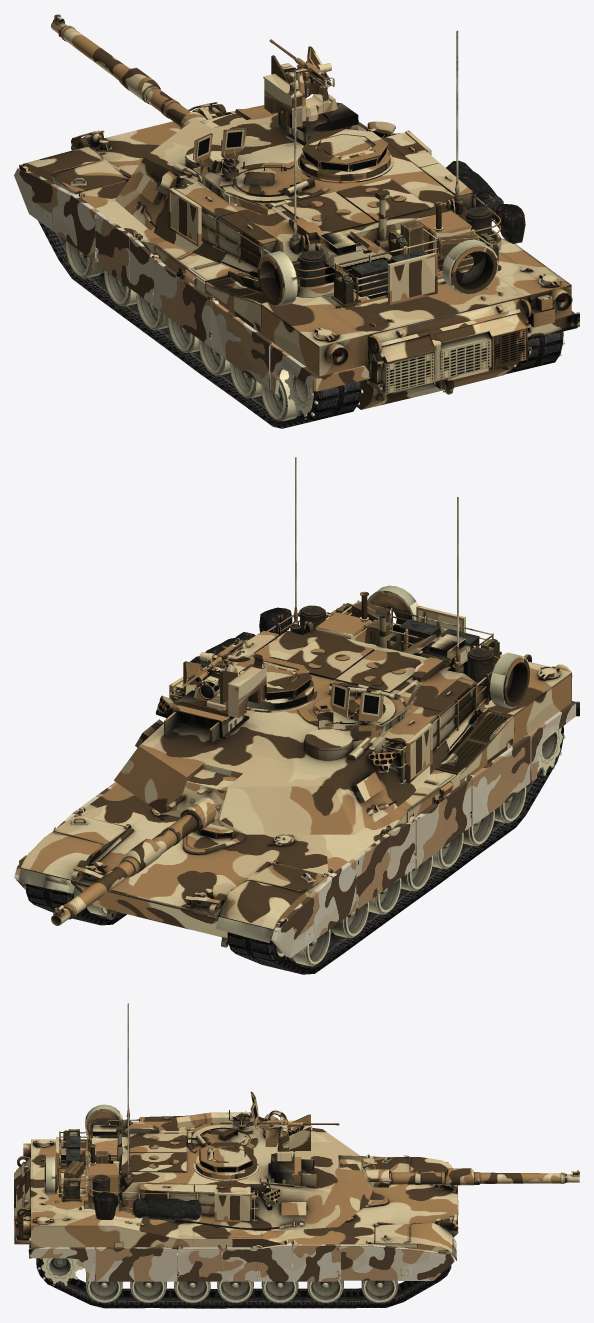
Rendered from m1a2_abrams_tank.glb.
3 views of the same model, one above another, from view 1: azimuth 30°, elevation 25°; view 2: azimuth 150°, elevation 25°; view 3: azimuth 270°, elevation 25° (orthographic). The views are drawn at different scales.
Visible parts, largest first — view 1: Object_3, Object_7, Object_2, Object_6, Object_4, Object_10, Object_9, Object_8, Object_12, Object_13, Object_11; view 2: Object_7, Object_3, Object_6, Object_2, Object_10, Object_8, Object_4, Object_9, Object_12, Object_11, Object_13; view 3: Object_3, Object_7, Object_6, Object_2, Object_10, Object_4, Object_12, Object_8, Object_9, Object_13.
Part boxes in pixels (left/top/right/bottom): Object_3: left=19, top=102, right=579, bottom=409; Object_7: left=115, top=108, right=501, bottom=307; Object_2: left=168, top=39, right=492, bottom=305; Object_6: left=14, top=168, right=575, bottom=394; Object_4: left=150, top=160, right=525, bottom=304; Object_10: left=38, top=183, right=563, bottom=428; Object_9: left=80, top=30, right=498, bottom=421; Object_8: left=51, top=14, right=245, bottom=129; Object_12: left=65, top=241, right=564, bottom=419; Object_13: left=230, top=362, right=285, bottom=419; Object_11: left=197, top=131, right=565, bottom=356; Object_7: left=114, top=592, right=529, bottom=834; Object_3: left=19, top=610, right=579, bottom=947; Object_6: left=14, top=702, right=575, bottom=957; Object_2: left=169, top=591, right=493, bottom=783; Object_10: left=26, top=726, right=563, bottom=974; Object_8: left=51, top=769, right=237, bottom=925; Object_4: left=190, top=601, right=499, bottom=805; Object_9: left=18, top=457, right=527, bottom=966; Object_12: left=74, top=727, right=565, bottom=964; Object_11: left=86, top=677, right=378, bottom=903; Object_13: left=470, top=786, right=526, bottom=844; Object_3: left=14, top=1139, right=458, bottom=1268; Object_7: left=44, top=1109, right=372, bottom=1230; Object_6: left=31, top=1156, right=454, bottom=1281; Object_2: left=56, top=1091, right=339, bottom=1222; Object_10: left=36, top=1245, right=451, bottom=1308; Object_4: left=63, top=1118, right=279, bottom=1229; Object_12: left=37, top=1258, right=396, bottom=1302; Object_8: left=339, top=1159, right=579, bottom=1189; Object_9: left=46, top=1003, right=456, bottom=1303; Object_13: left=88, top=1280, right=164, bottom=1302.
Size of the model in its own units: 4.49 by 5.22 by 11.38.
Materials: 11 (10 with a texture image).
